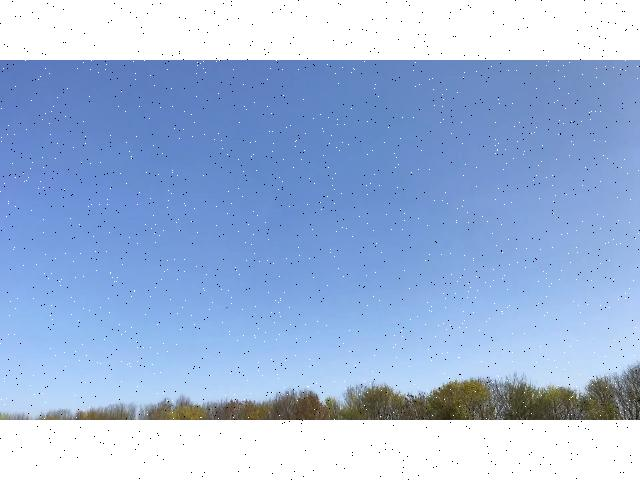Anti-Drone: (222, 304, 240, 317)
